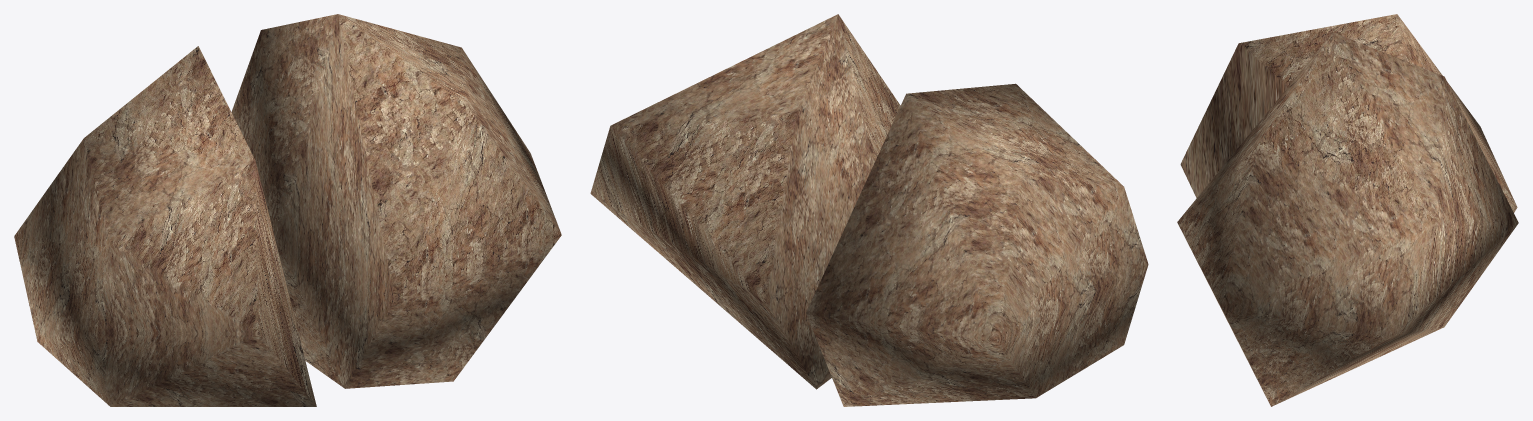
The model's file is rock_tatt_boulder_tan_a2_l4.fbx.
3 views of the same model, side by side, from view 1: azimuth 30°, elevation 25°; view 2: azimuth 150°, elevation 25°; view 3: azimuth 270°, elevation 25° (orthographic). The views are drawn at different scales.
Parts seen in each view (by area): view 1: mesh_node; view 2: mesh_node; view 3: mesh_node.
Part boxes in pixels (x1,y1,x2,y2): mesh_node: [14, 14, 561, 406]; mesh_node: [590, 14, 1148, 406]; mesh_node: [1177, 14, 1518, 406].
Size of the model in its own units: 9 by 6.18 by 5.68.
